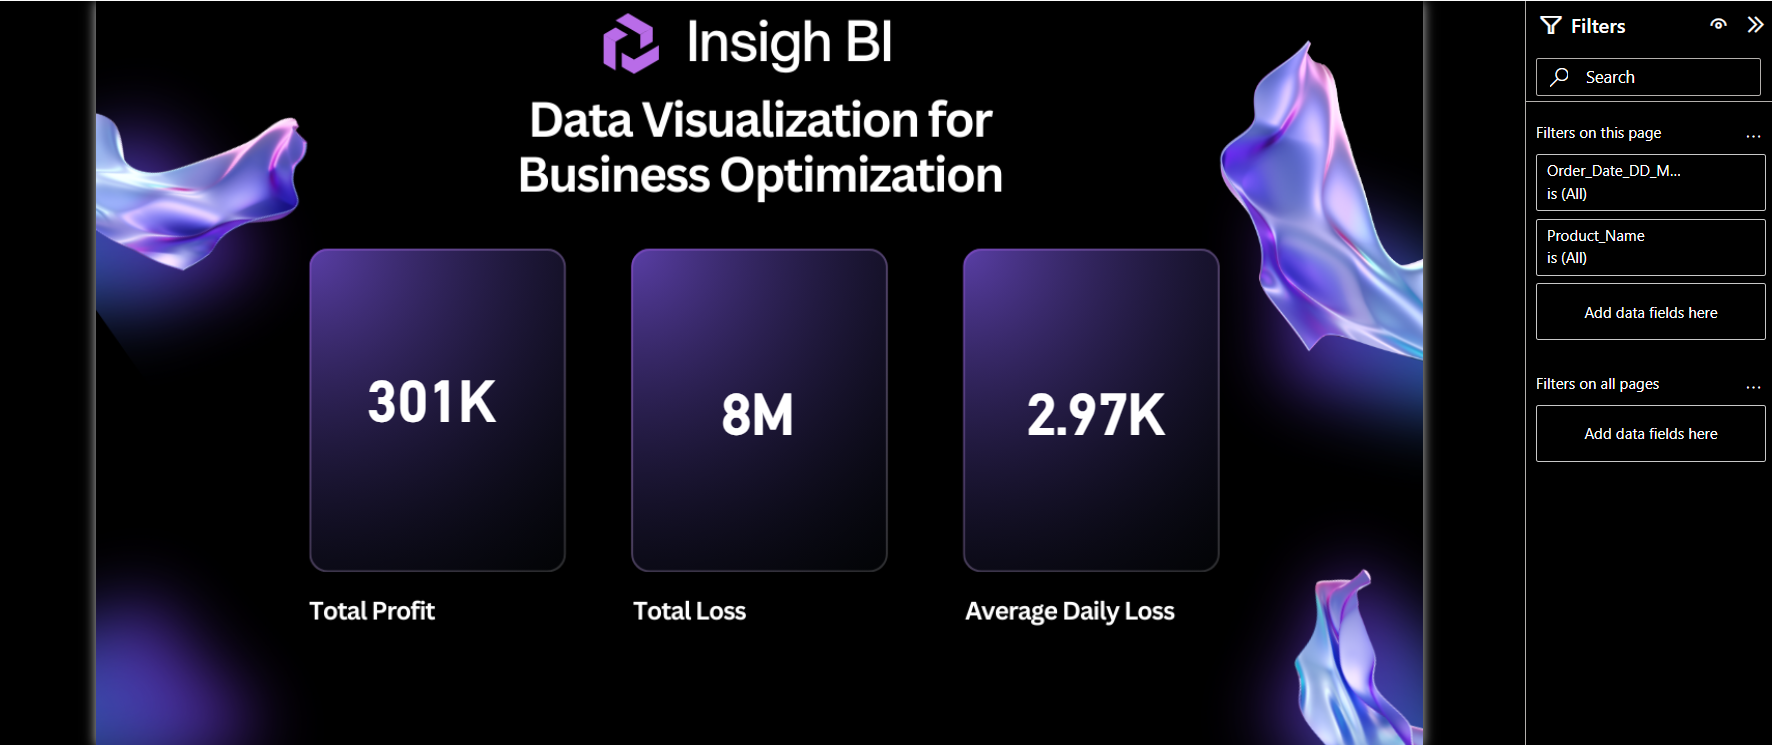

What the dashboard file says about the page in this screenshot:
{"tool":"powerbi","page":{"name":"Page 2","canvas":[1280,720],"ordinal":1},"visuals":[{"type":"card","fields":{"Values":["Measures Table.Total Profit"]},"box":[240.1,273.1,167.4,214.1],"z":0},{"type":"card","fields":{"Values":["Measures Table.Total Loss"]},"box":[555.4,286.5,168.1,213.4],"z":1000},{"type":"card","fields":{"Values":["Measures Table.Average Daily Loss"]},"box":[881.3,286.5,168.1,213.4],"z":2000}]}

Visuals, with their boxes on the page's 1280x720 design canvas (x1, y1, x2, y2). These are canvas units, not pixel positions in the 1772x745 screenshot, which may show the page scaled, cropped or inside an application window:
card - Measures Table.Total Profit: box(240, 273, 408, 487)
card - Measures Table.Total Loss: box(555, 286, 724, 500)
card - Measures Table.Average Daily Loss: box(881, 286, 1049, 500)
